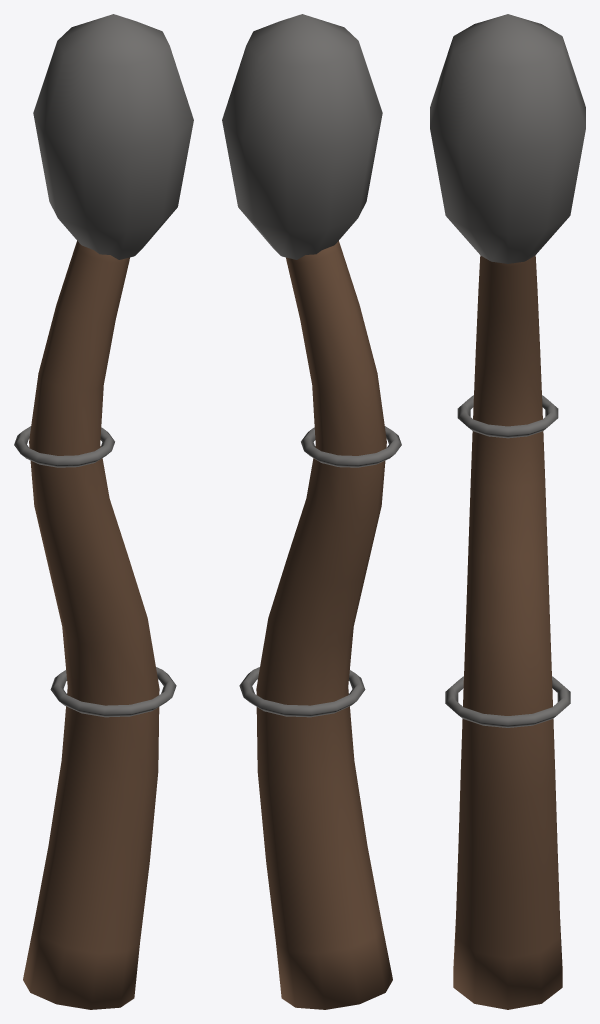
File: pounder-kobold-tail.glb
3 views of the same model, side by side, from view 1: azimuth 30°, elevation 25°; view 2: azimuth 150°, elevation 25°; view 3: azimuth 270°, elevation 25° (orthographic).
Visible parts, largest first — view 1: pounder-kobold-tail; view 2: pounder-kobold-tail; view 3: pounder-kobold-tail.
Boxes of the visible parts, x1,y1,x2,y2 form: pounder-kobold-tail: [14, 14, 193, 1009]; pounder-kobold-tail: [222, 14, 401, 1009]; pounder-kobold-tail: [430, 14, 585, 1009].
Bounding box in the file's own units: 0.2328 × 1.33 × 0.1902.
